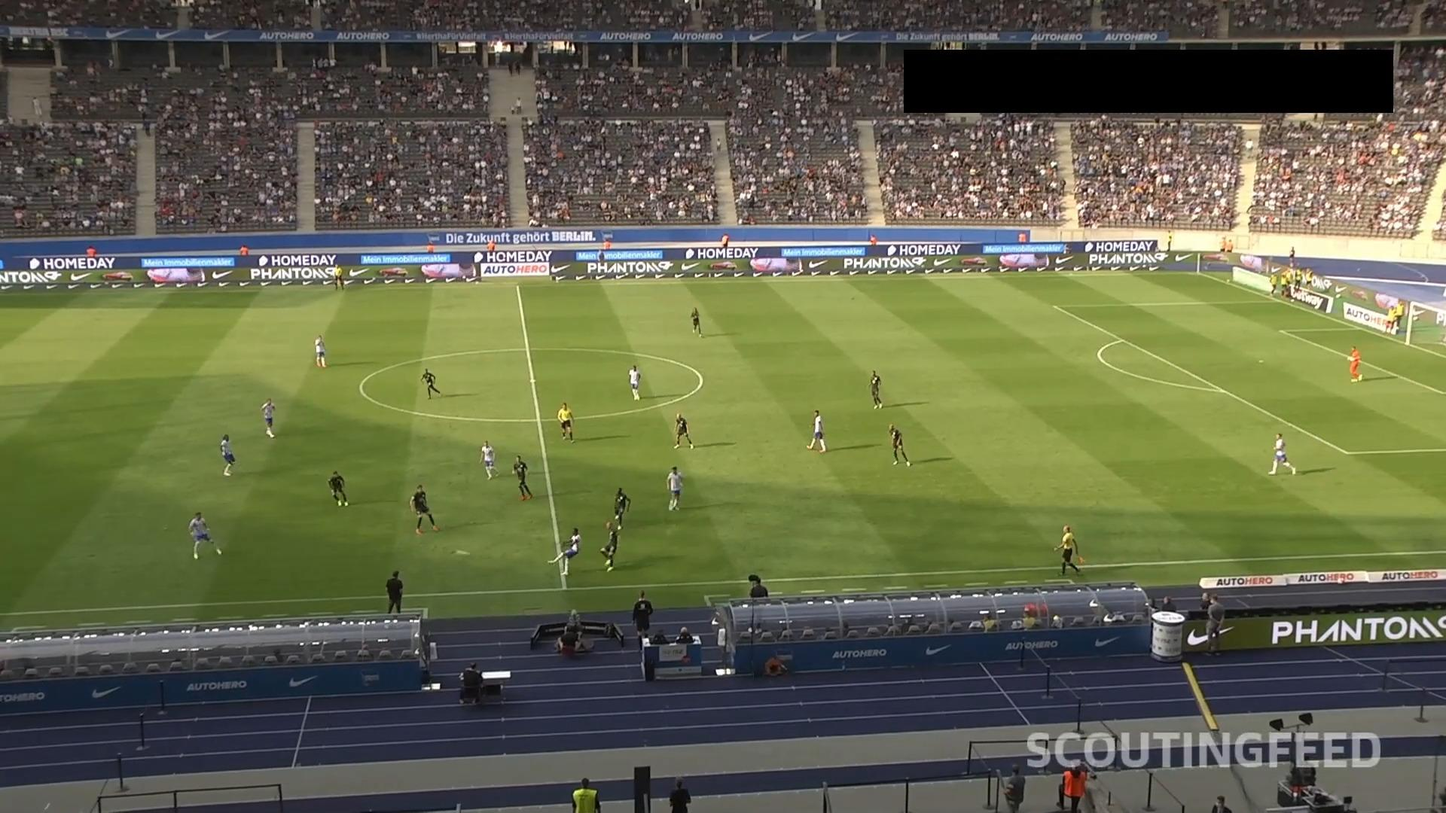ball: (456, 550, 472, 559)
goalkeeper: (1344, 344, 1364, 384)
player: (545, 527, 581, 578), (188, 511, 223, 561), (408, 483, 440, 537), (1267, 431, 1296, 477), (887, 424, 912, 468), (806, 410, 829, 456), (511, 455, 533, 502), (599, 520, 618, 574), (610, 486, 632, 532), (665, 465, 686, 512), (672, 413, 696, 451), (327, 469, 349, 509), (478, 440, 499, 479), (219, 432, 236, 479), (419, 367, 442, 401), (867, 369, 884, 409), (261, 396, 276, 440), (314, 334, 330, 369), (627, 365, 642, 402), (689, 307, 703, 339)
referee: (1053, 525, 1085, 577), (555, 402, 577, 443), (334, 264, 344, 291)
